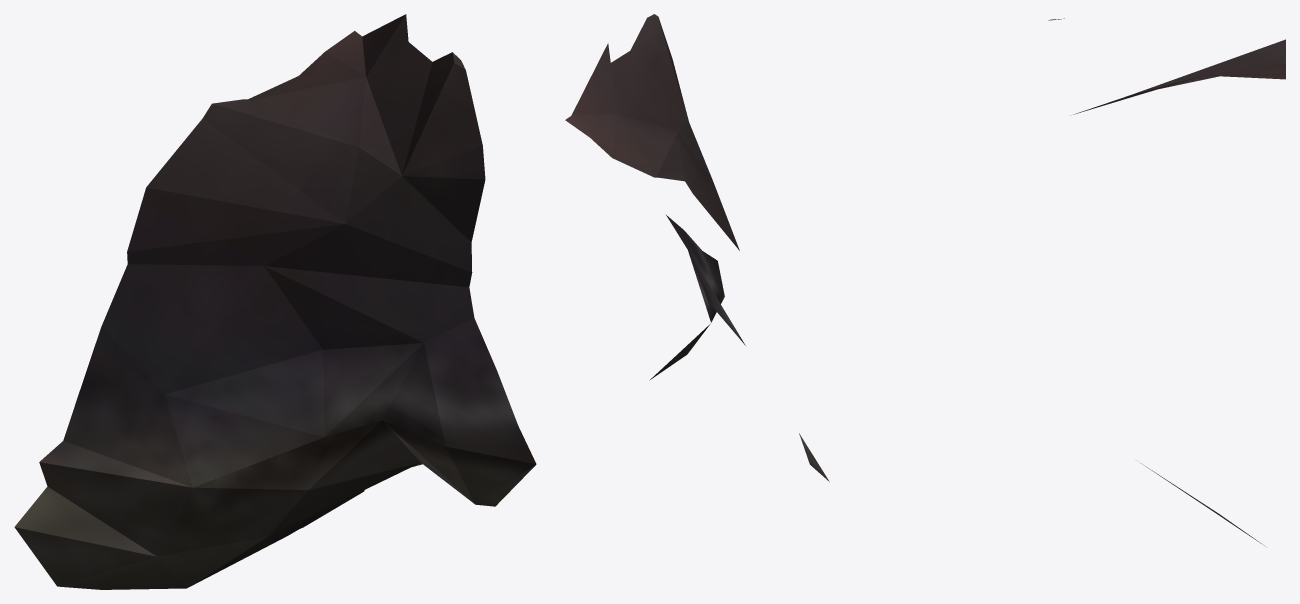
The picture shows the model from 3 angles, left to right: view 1: azimuth 30°, elevation 25°; view 2: azimuth 150°, elevation 25°; view 3: azimuth 270°, elevation 25°; orthographic projection. The views are drawn at different scales.
Size of the model in its own units: 0.127 by 0.2024 by 0.1175.
Materials: 1 (1 with a texture image).
